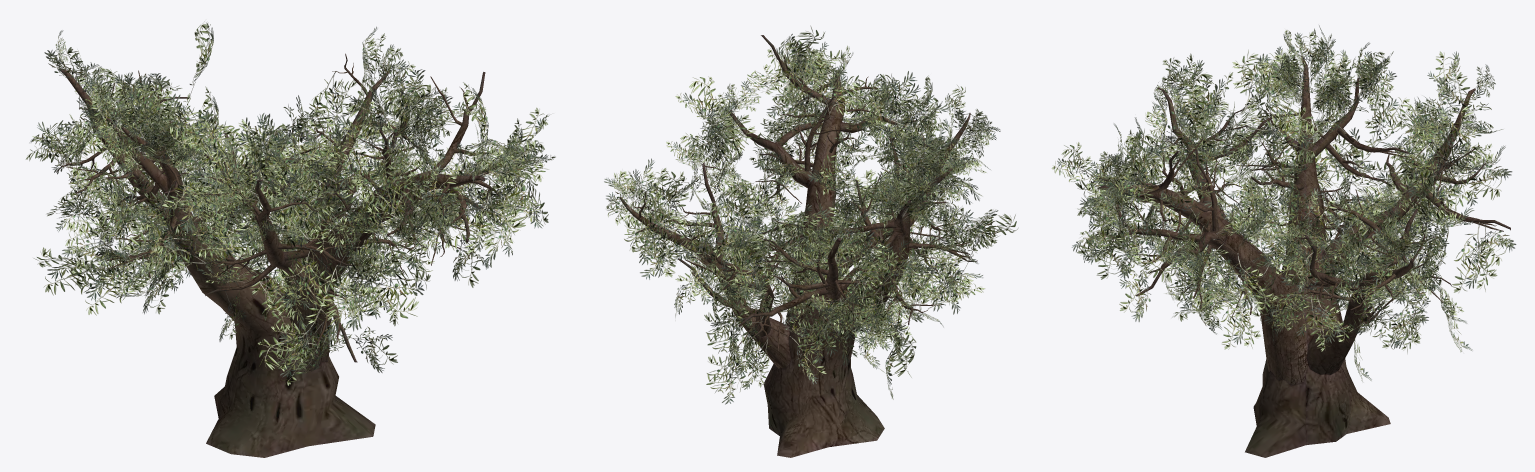
The model's file is old_olive_tree.glb.
The picture shows the model from 3 angles, left to right: view 1: azimuth 30°, elevation 25°; view 2: azimuth 150°, elevation 25°; view 3: azimuth 270°, elevation 25°; orthographic projection. The views are drawn at different scales.
Parts seen in each view (by area): view 1: Object_2, Object_3; view 2: Object_2, Object_3; view 3: Object_2, Object_3.
Boxes of the visible parts, box(x1,y1,x2,y2) form: Object_2: box(25, 22, 555, 385); Object_3: box(56, 53, 515, 457); Object_2: box(604, 26, 1017, 404); Object_3: box(619, 35, 977, 457); Object_2: box(1052, 25, 1516, 381); Object_3: box(1086, 55, 1510, 457).
Bounding box in the file's own units: 5.26 × 4.61 × 5.65.
Materials: 2 (2 with a texture image).
